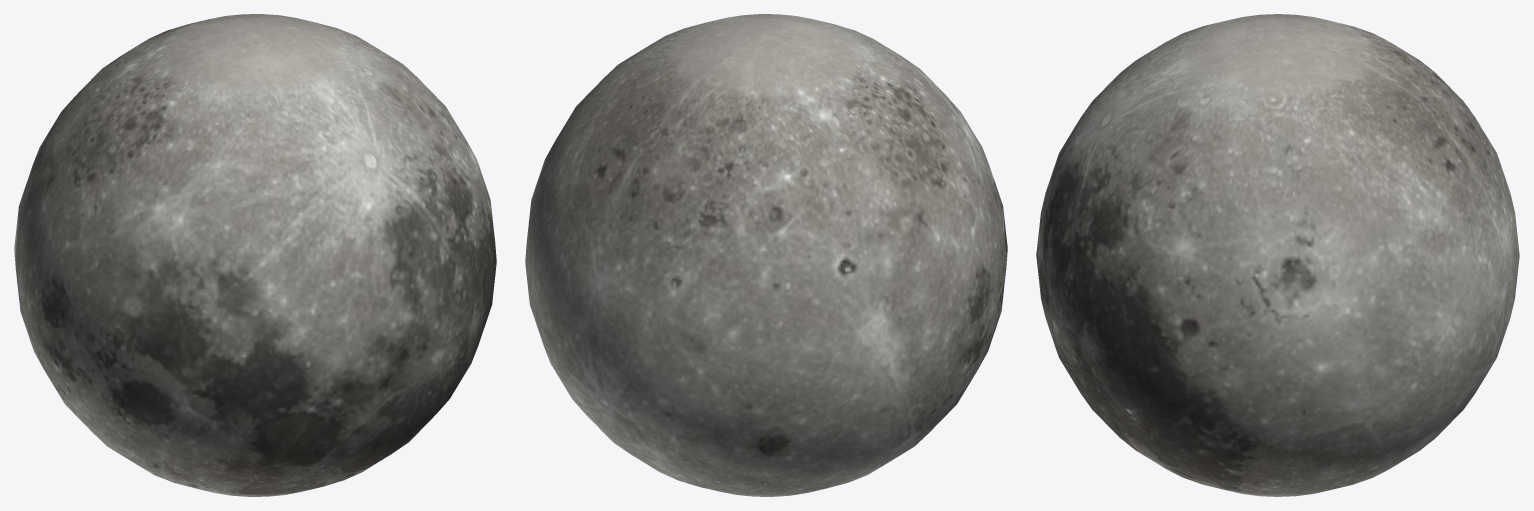
The model's file is luna_earths_companion.glb.
3 views of the same model, side by side, from view 1: azimuth 30°, elevation 25°; view 2: azimuth 150°, elevation 25°; view 3: azimuth 270°, elevation 25° (orthographic).
Parts seen in each view (by area): view 1: Object_3; view 2: Object_3; view 3: Object_3.
Boxes of the visible parts, <box> form: Object_3: <box>14,14,496,496</box>; Object_3: <box>525,14,1007,496</box>; Object_3: <box>1036,14,1519,496</box>.
Size of the model in its own units: 1155 by 1155 by 1155.
2 materials, 1 textured.
